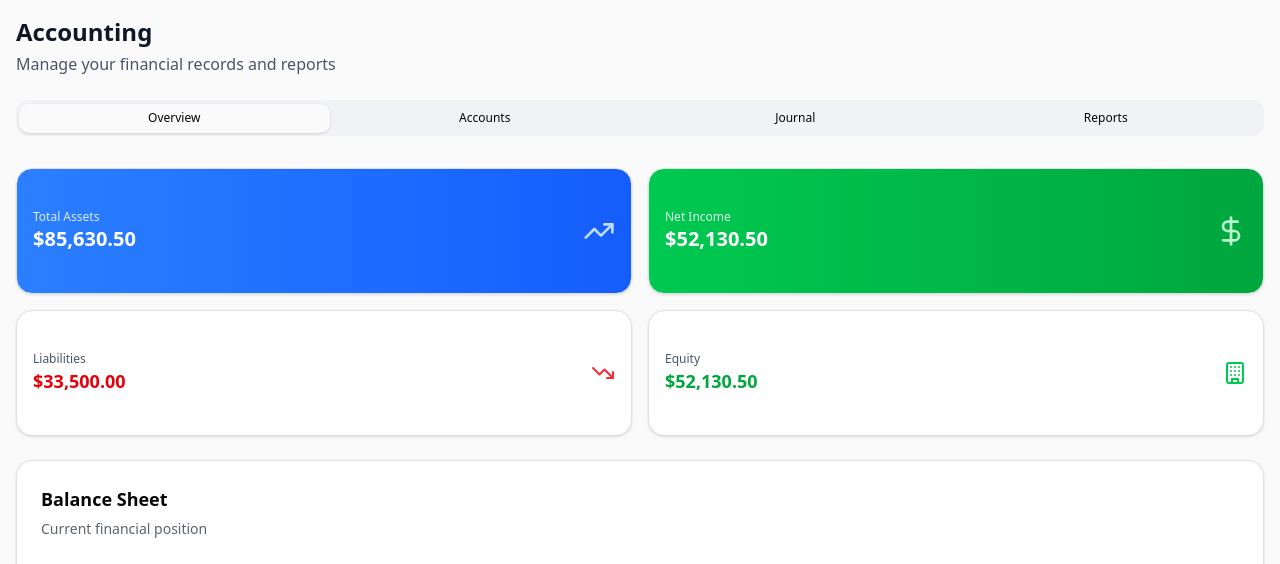
Test: MobileAccountingModule › switches to Journal tab
Click the tab "Journal".
click(795, 118)  # box x1=640 y1=104 x2=950 y2=132
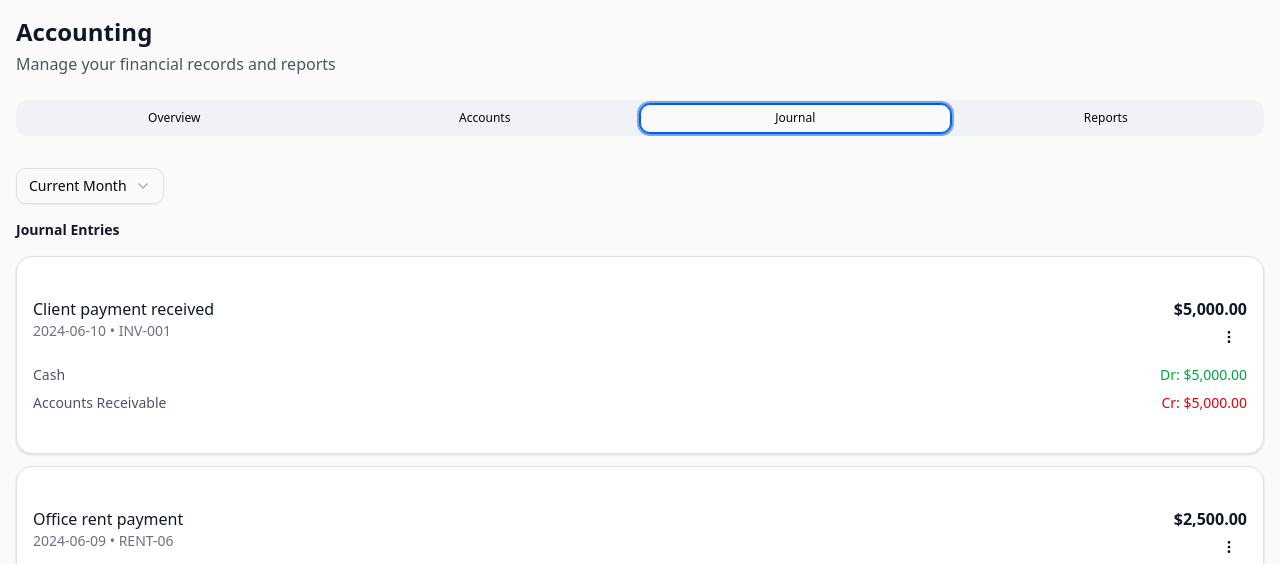
Result: the heading "Journal Entries" is shown at x1=16 y1=220 x2=119 y2=239
